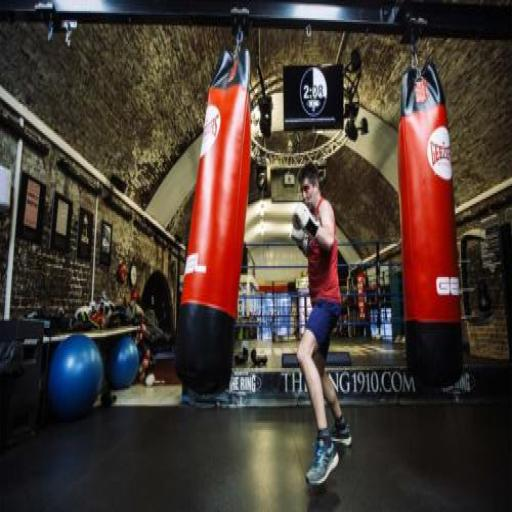boxing: (248, 122, 382, 512)
